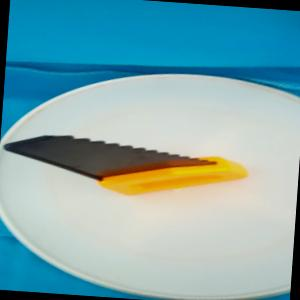serrote: (0, 128, 253, 204)
